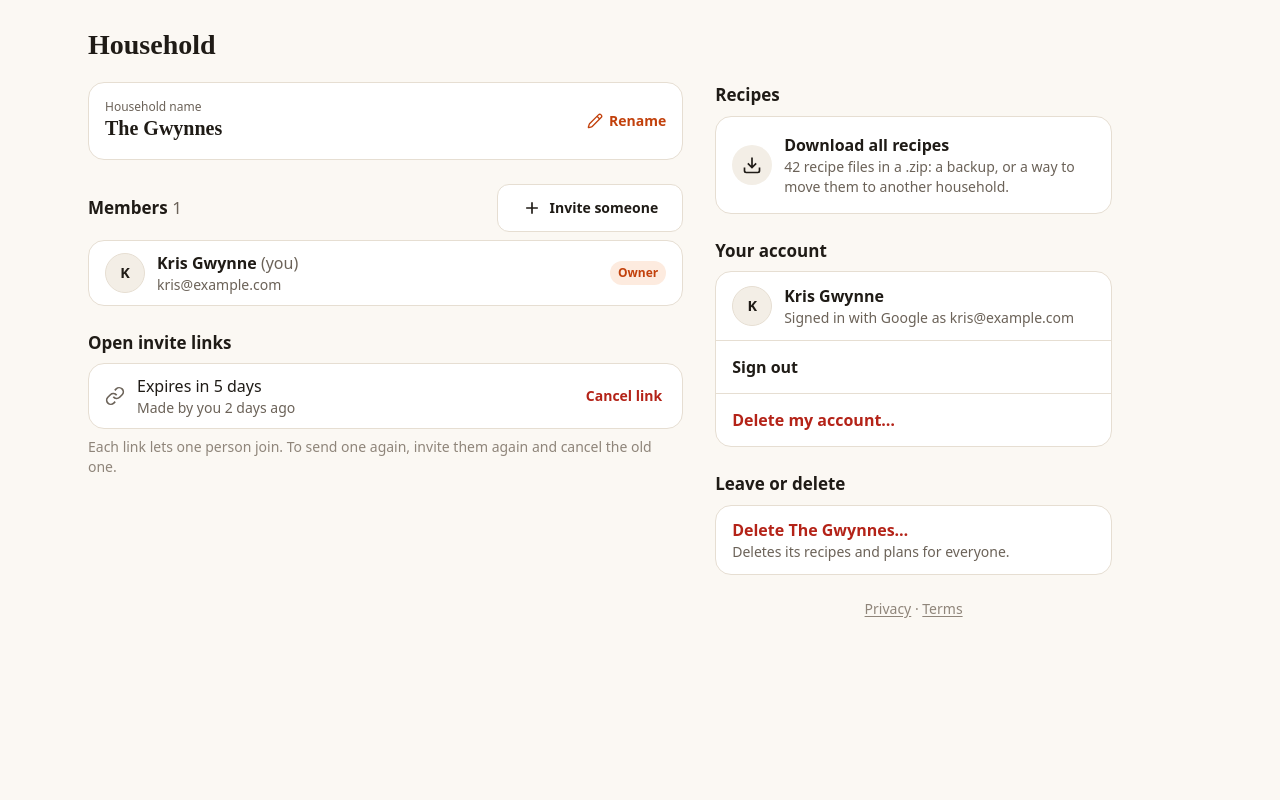
as an owner (design A, B) › offers only Delete to the only person in the household
Click the button "Delete The Gwynnes" at (914, 540), box x1=716 y1=506 x2=1111 y2=574
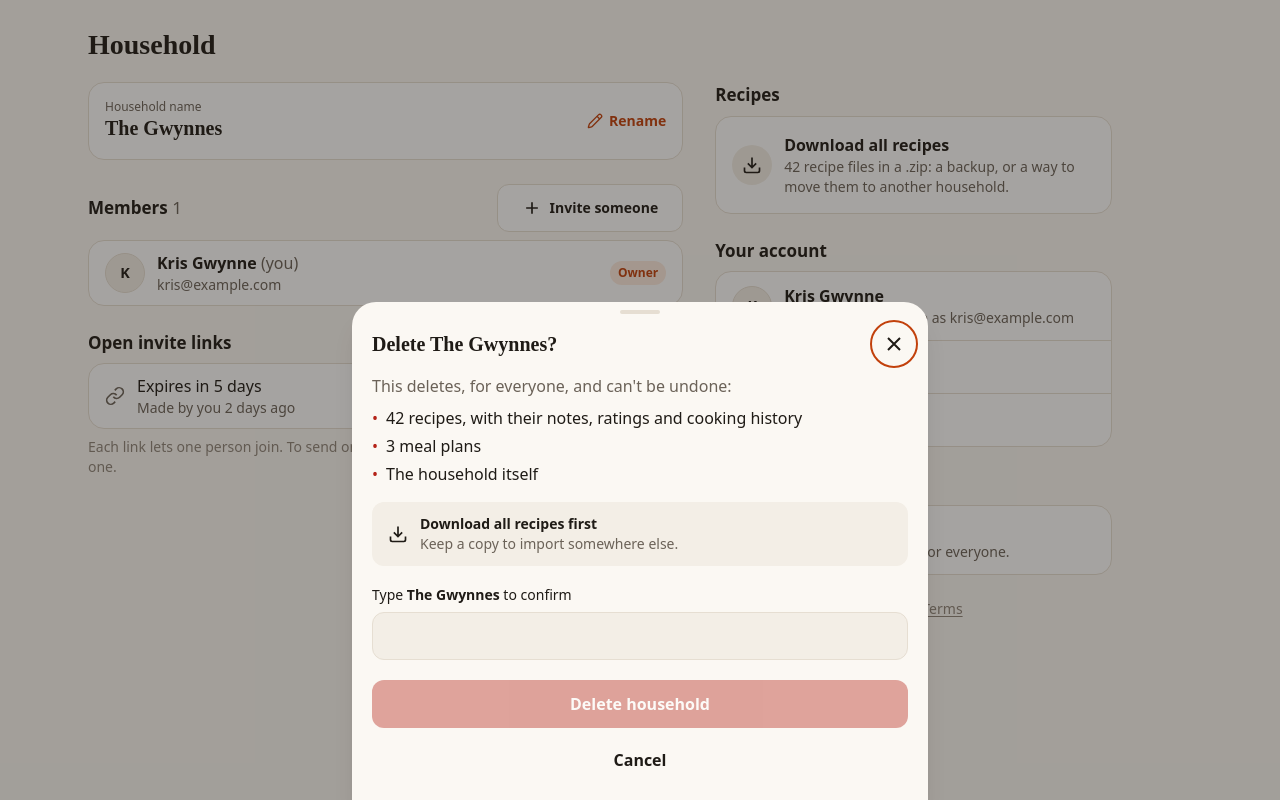
Check: the dialog does not show "lose access", box x1=352 y1=302 x2=928 y2=799
Check: the dialog shows "The household itself", box x1=386 y1=463 x2=538 y2=485
